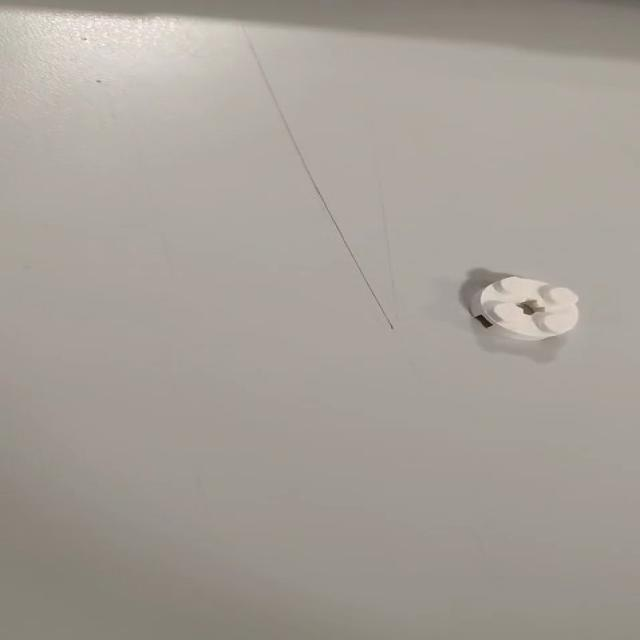S2x2x0: (467, 274, 580, 341)
